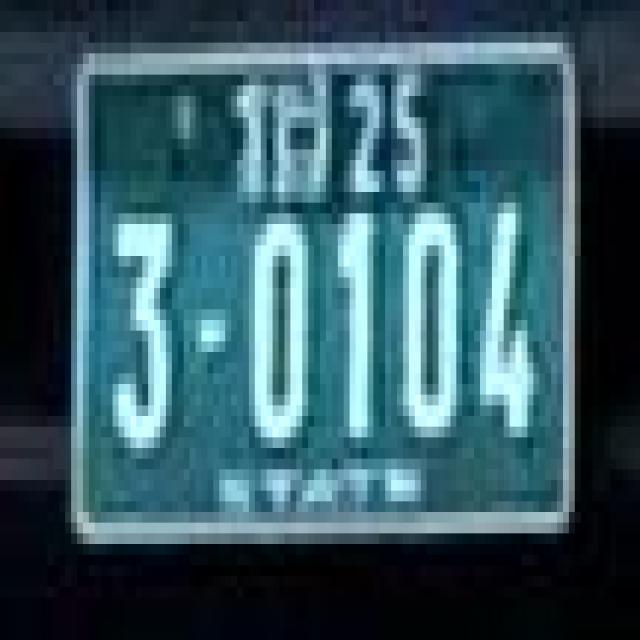State: (231, 64, 328, 208)
